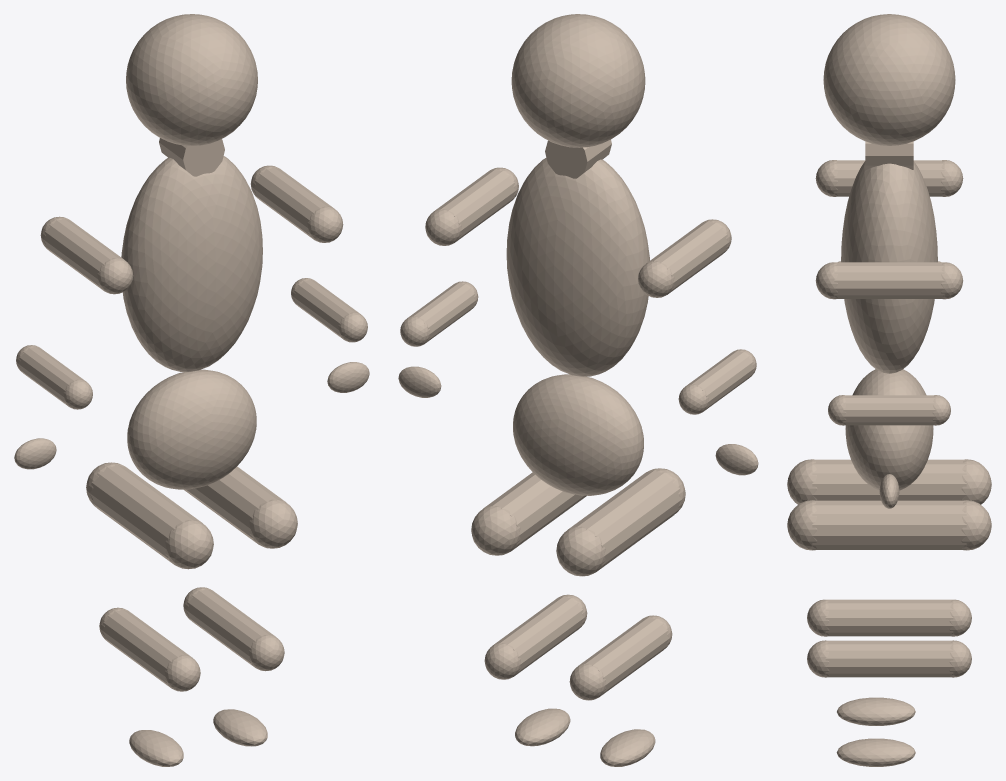
Rendered from skin.glb.
3 renders of one model, left to right at view 1: azimuth 30°, elevation 25°; view 2: azimuth 150°, elevation 25°; view 3: azimuth 270°, elevation 25°, orthographic.
Visible parts, largest first — view 1: world; view 2: world; view 3: world.
Boxes of the visible parts, x1,y1,x2,y2 form: world: [14, 14, 369, 766]; world: [398, 14, 758, 766]; world: [787, 14, 991, 766].
Bounding box in the file's own units: 1.86 × 3.62 × 0.93.
